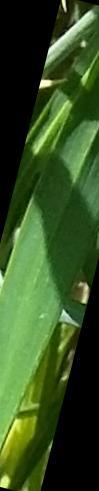Wheat: (1, 225, 68, 329), (1, 335, 55, 421), (59, 123, 99, 219)
